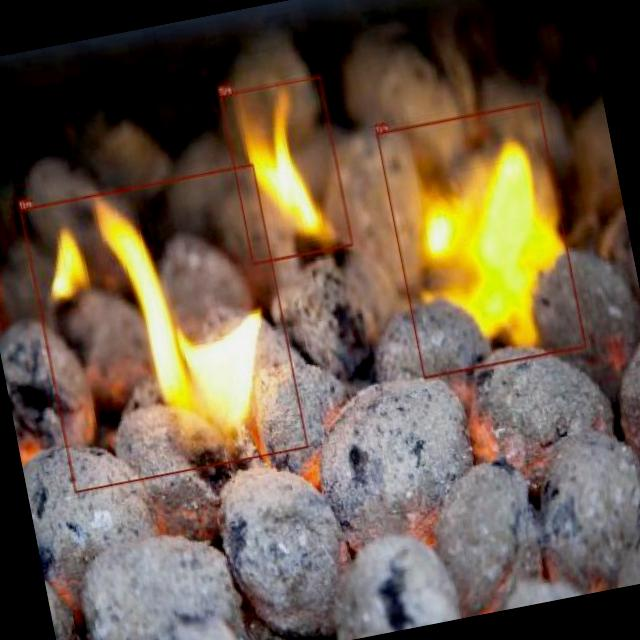fire: (18, 163, 308, 492), (375, 100, 586, 378), (220, 75, 352, 264)
